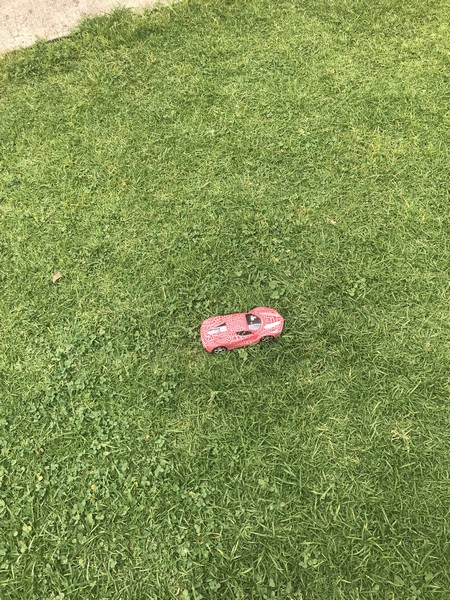RC: (197, 305, 285, 358)
